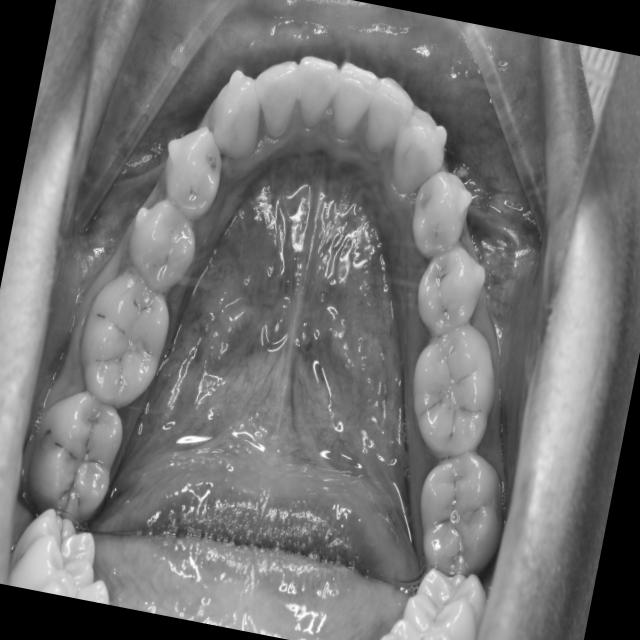tooth: (389, 308, 516, 484), (63, 263, 184, 423), (398, 439, 519, 597), (19, 377, 137, 538), (403, 235, 500, 358), (379, 83, 462, 218), (146, 120, 239, 232), (115, 188, 207, 301), (200, 57, 283, 179), (401, 164, 484, 271), (355, 58, 430, 173), (320, 38, 390, 150), (278, 38, 352, 143), (240, 53, 311, 150)
